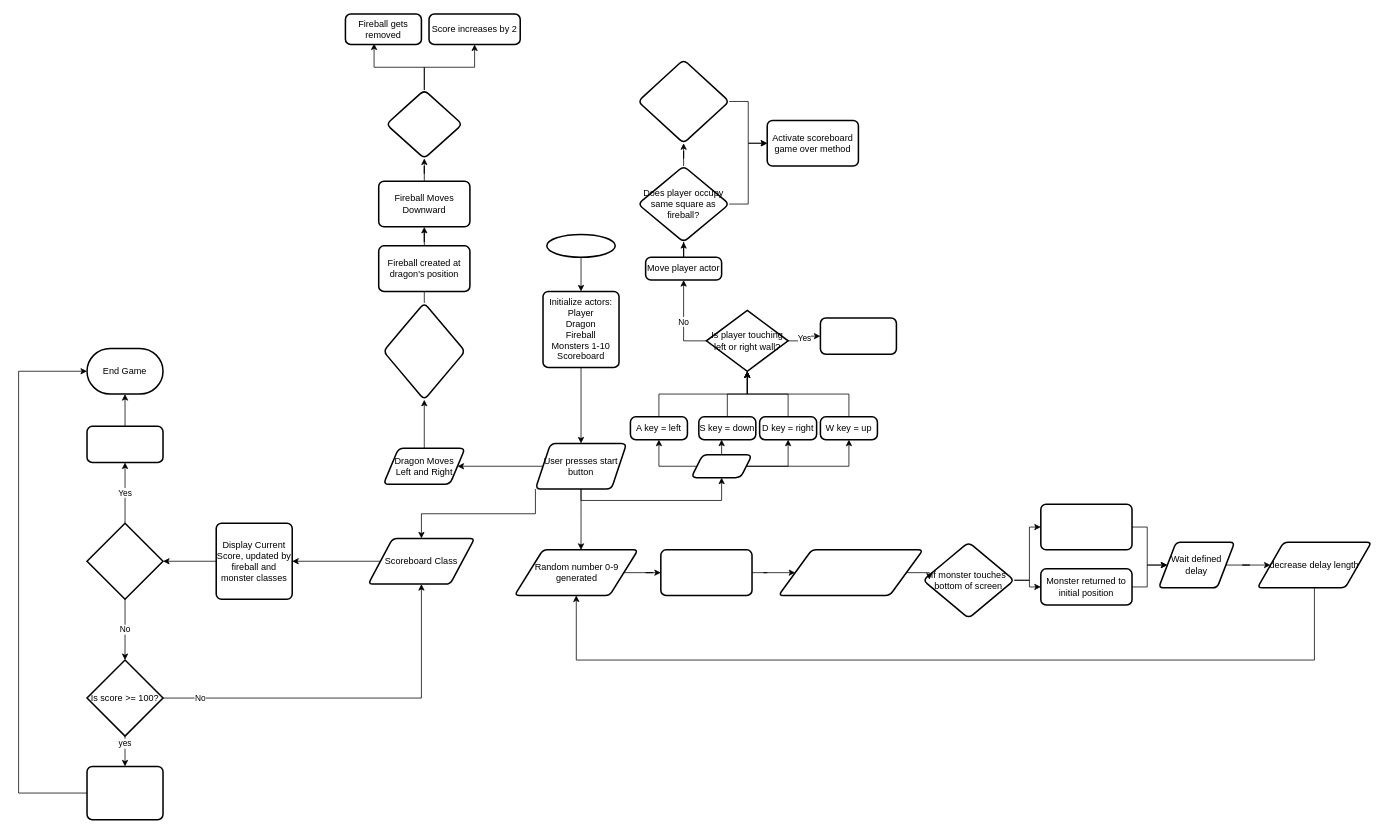
This 1385x833 diagram has some shape labels left out. Here are the shapes that lost their labels. From the top down, the box of each, then its label:
(637, 59, 730, 144): Does player occupy same square as monster?
(385, 89, 463, 159): If fireball touches bottom of world
(546, 233, 616, 258): program start
(382, 302, 466, 400): If randomly generated number 1-100 is < 10
(819, 317, 897, 355): Transport player actor to opposite wall
(86, 425, 163, 463): Display Game Over
(690, 454, 752, 478): User moves
(1040, 503, 1132, 550): Score increases by 1
(86, 522, 163, 600): Is game over method called?
(660, 549, 752, 596): Monster that correlates to number is activated
(777, 549, 923, 596): Activated monster moves downwards
(86, 765, 163, 820): Display Victory Message
